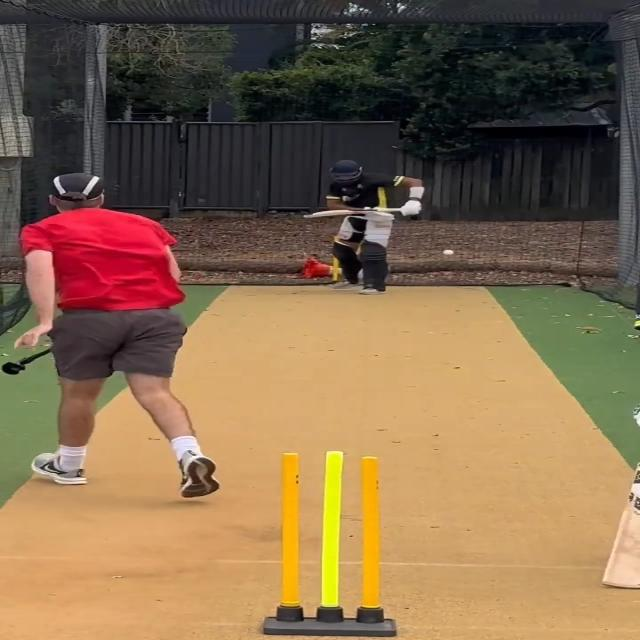ball: (442, 248, 456, 257)
stump: (263, 452, 398, 636)
